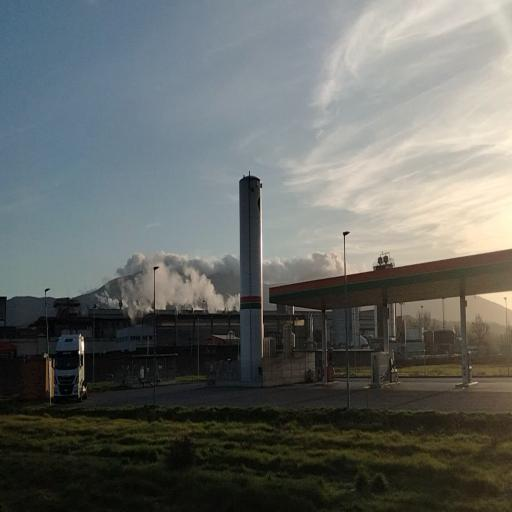leakage: (92, 250, 246, 327)
